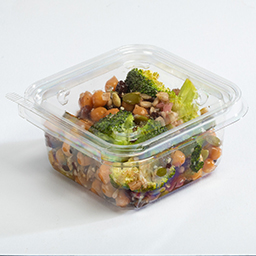PlasticBox: (4, 41, 251, 217)
